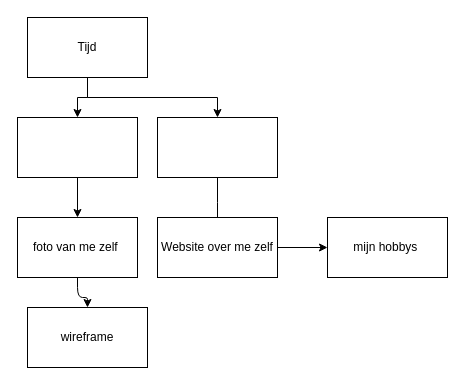
This 465x385 diagram has some shape labels left out. Here are the shapes that lost their labels. From the top down, the box of each, then its label:
(16, 116, 138, 178): Portfolio
(156, 116, 278, 178): Wat ik ga maken
